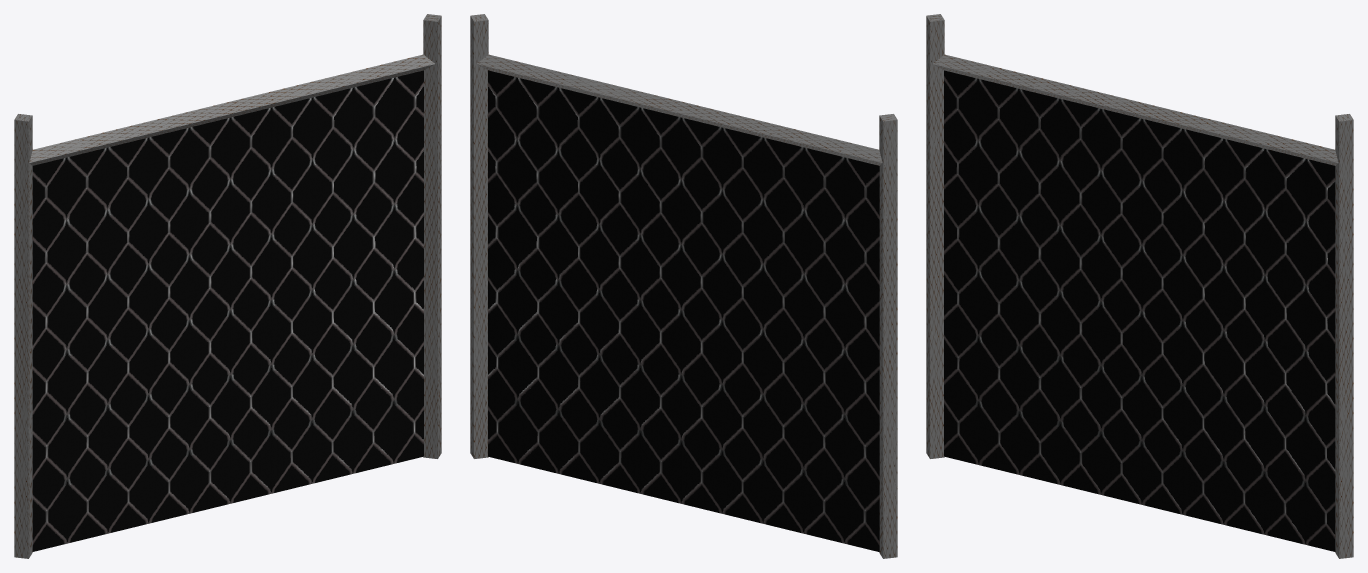
The model's file is Grade1.fbx.
3 renders of one model, left to right at view 1: azimuth 30°, elevation 25°; view 2: azimuth 150°, elevation 25°; view 3: azimuth 330°, elevation 25°, orthographic.
Visible parts, largest first — view 1: Cerca; view 2: Cerca; view 3: Cerca.
Part boxes in pixels (x1,y1,x2,y2): Cerca: (14, 14, 441, 558); Cerca: (470, 14, 897, 558); Cerca: (926, 14, 1353, 558).
Bounding box in the file's own units: 264 × 259 × 11.39.
